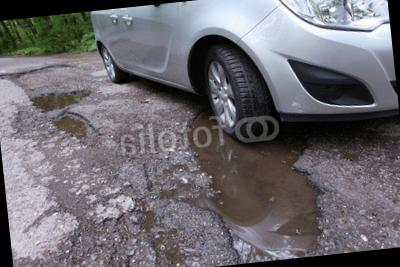pothole: (163, 86, 366, 267), (34, 99, 114, 158), (22, 80, 98, 118), (0, 55, 78, 89)
